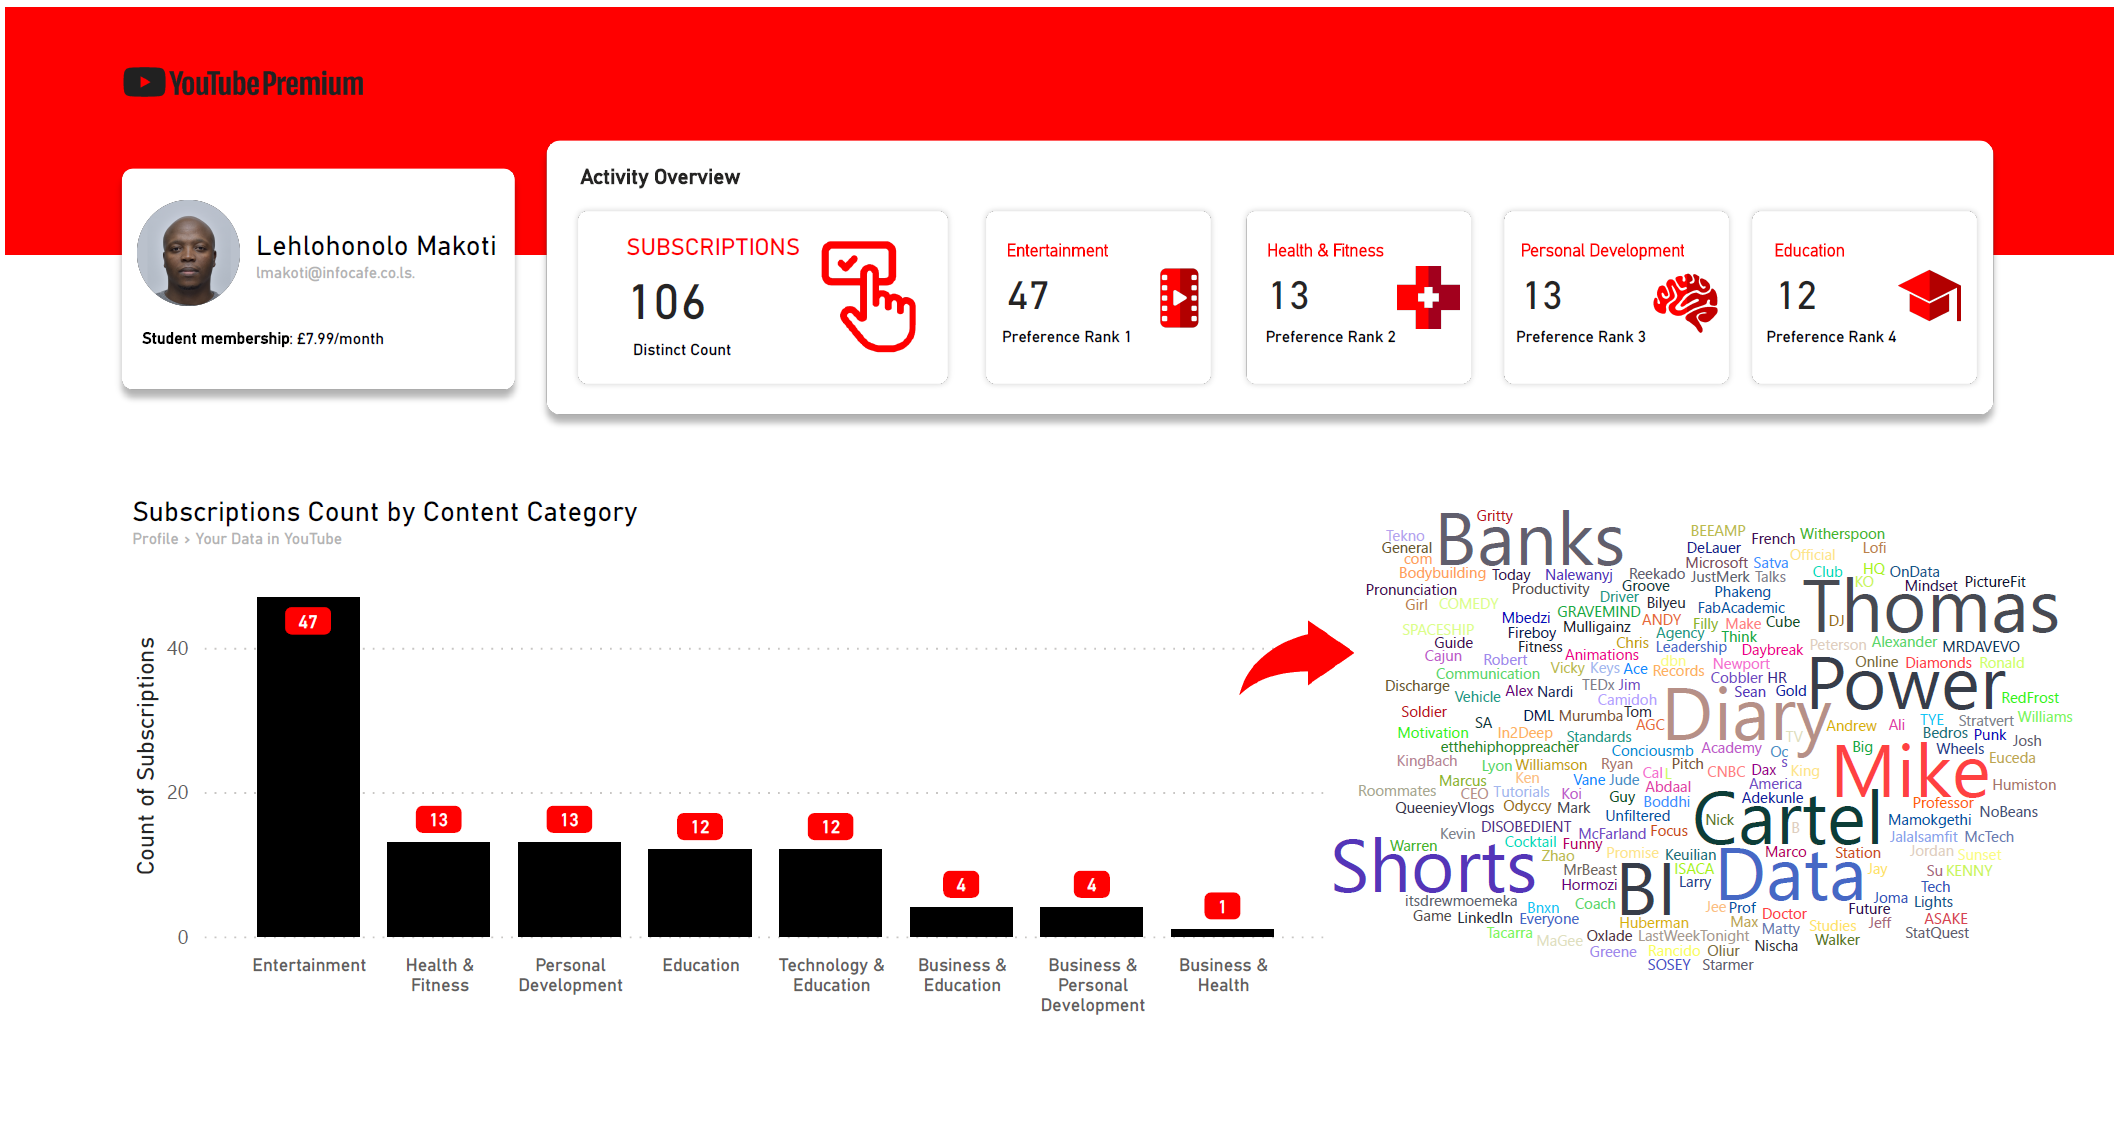

What the dashboard file says about the page in this screenshot:
{"tool":"powerbi","page":{"name":"Page 1","canvas":[1280,720],"ordinal":0},"visuals":[{"type":"shape","box":[0,0,1279.8,149.7],"z":0},{"type":"image","box":[74.6,104.7,72,88],"z":0,"group":"g1"},{"type":"image","box":[64,24,160,40],"z":1000},{"type":"textbox","box":[146.6,128.7,168,32],"z":1000,"group":"g1"},{"type":"textbox","box":[72,290.6,440,32],"z":1000,"group":"g2"},{"type":"shape","box":[61.6,88.7,256,152],"z":2000},{"type":"textbox","box":[146.6,144.7,168,32],"z":2000,"group":"g1"},{"type":"textbox","box":[72,306.6,168,32],"z":2000,"group":"g2"},{"type":"shape","box":[320,72,896,184],"z":3000},{"type":"textbox","box":[77.6,184.7,200,32],"z":4000},{"type":"group","id":"g1","title":"Group 1","box":[74.6,104.7,240,88],"z":5000},{"type":"textbox","box":[344,88,200,32],"z":6000},{"type":"shape","box":[344,120,232,112],"z":7000},{"type":"shape","box":[592,120,144,112],"z":8000},{"type":"cardVisual","fields":{"Data":["Count(subscriptions.Channel ID)"]},"box":[360,120,208,96],"z":10001},{"type":"textbox","box":[376,192,88,32],"z":10002},{"type":"image","box":[480,136,88,80],"z":10003},{"type":"cardVisual","fields":{"Data":["Count(subscriptions.Channel ID)"]},"box":[591.2,124.2,120,96],"z":10004},{"type":"columnChart","fields":{"Category":["subscriptions.Condensed Category"],"Y":["CountNonNull(subscriptions.Channel ID)"]},"box":[72,330.6,736,288],"z":10007,"group":"g2"},{"type":"shape","box":[750.1,119.8,144,112],"z":10008},{"type":"cardVisual","fields":{"Data":["Count(subscriptions.Channel ID)"]},"box":[749.3,124,120,96],"z":10009},{"type":"shape","box":[905.7,119.8,144,112],"z":10010},{"type":"cardVisual","fields":{"Data":["Count(subscriptions.Channel ID)"]},"box":[903.2,124.2,152,96],"z":10011},{"type":"shape","box":[1057.3,119.8,144,112],"z":10012},{"type":"cardVisual","fields":{"Data":["Count(subscriptions.Channel ID)"]},"box":[1056.5,124,120,96],"z":10013},{"type":"textbox","box":[600,184,136,32],"z":10014},{"type":"textbox","box":[760,184,136,32],"z":10015},{"type":"textbox","box":[912,184,136,32],"z":10016},{"type":"textbox","box":[1064,184,136,32],"z":10017},{"type":"image","box":[688,152,48,48],"z":10019},{"type":"image","box":[840,152,48,48],"z":10020},{"type":"image","box":[984,152,72,56],"z":10021},{"type":"image","box":[1136,152,64,48],"z":10022},{"type":"WordCloud1447959067750","fields":{"Category":["subscriptions.Channel Title"]},"box":[792,282.6,488,352],"z":10024,"group":"g2"},{"type":"image","box":[736,354.6,96,80],"z":10025,"group":"g2"},{"type":"group","id":"g2","title":"Group 2","box":[72,282.6,1208,352],"z":10026}]}

Visuals, with their boxes on the page's 1280x720 design canvas (x1, y1, x2, y2). These are canvas units, not pixel positions in the 2117x1140 screenshot, which may show the page scaled, cropped or inside an application window:
shape: (x1=0, y1=0, x2=1280, y2=150)
image: (x1=75, y1=105, x2=147, y2=193)
image: (x1=64, y1=24, x2=224, y2=64)
textbox: (x1=147, y1=129, x2=315, y2=161)
textbox: (x1=72, y1=291, x2=512, y2=323)
shape: (x1=62, y1=89, x2=318, y2=241)
textbox: (x1=147, y1=145, x2=315, y2=177)
textbox: (x1=72, y1=307, x2=240, y2=339)
shape: (x1=320, y1=72, x2=1216, y2=256)
textbox: (x1=78, y1=185, x2=278, y2=217)
"Group 1" group: (x1=75, y1=105, x2=315, y2=193)
textbox: (x1=344, y1=88, x2=544, y2=120)
shape: (x1=344, y1=120, x2=576, y2=232)
shape: (x1=592, y1=120, x2=736, y2=232)
cardVisual - Count(subscriptions.Channel ID): (x1=360, y1=120, x2=568, y2=216)
textbox: (x1=376, y1=192, x2=464, y2=224)
image: (x1=480, y1=136, x2=568, y2=216)
cardVisual - Count(subscriptions.Channel ID): (x1=591, y1=124, x2=711, y2=220)
columnChart - subscriptions.Condensed Category x CountNonNull(subscriptions.Channel ID): (x1=72, y1=331, x2=808, y2=619)
shape: (x1=750, y1=120, x2=894, y2=232)
cardVisual - Count(subscriptions.Channel ID): (x1=749, y1=124, x2=869, y2=220)
shape: (x1=906, y1=120, x2=1050, y2=232)
cardVisual - Count(subscriptions.Channel ID): (x1=903, y1=124, x2=1055, y2=220)
shape: (x1=1057, y1=120, x2=1201, y2=232)
cardVisual - Count(subscriptions.Channel ID): (x1=1056, y1=124, x2=1176, y2=220)
textbox: (x1=600, y1=184, x2=736, y2=216)
textbox: (x1=760, y1=184, x2=896, y2=216)
textbox: (x1=912, y1=184, x2=1048, y2=216)
textbox: (x1=1064, y1=184, x2=1200, y2=216)
image: (x1=688, y1=152, x2=736, y2=200)
image: (x1=840, y1=152, x2=888, y2=200)
image: (x1=984, y1=152, x2=1056, y2=208)
image: (x1=1136, y1=152, x2=1200, y2=200)
WordCloud1447959067750 - subscriptions.Channel Title: (x1=792, y1=283, x2=1280, y2=635)
image: (x1=736, y1=355, x2=832, y2=435)
"Group 2" group: (x1=72, y1=283, x2=1280, y2=635)
